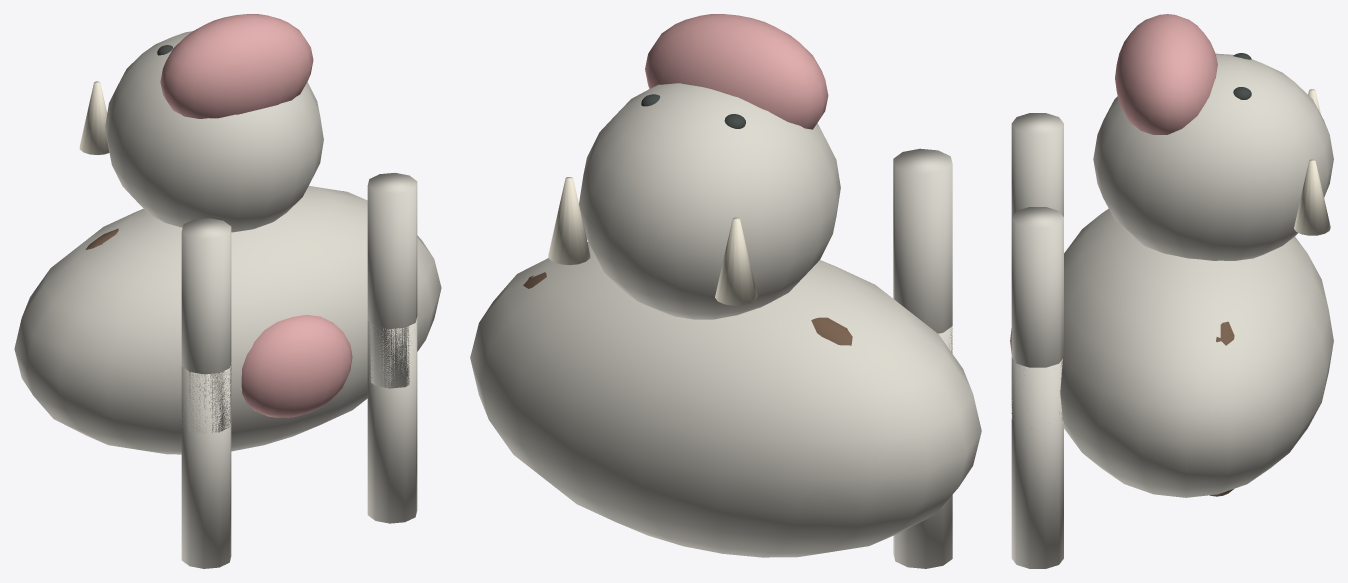
File: cow_character.glb
The picture shows the model from 3 angles, left to right: view 1: azimuth 30°, elevation 25°; view 2: azimuth 150°, elevation 25°; view 3: azimuth 270°, elevation 25°; orthographic projection. The views are drawn at different scales.
Visible parts, largest first — view 1: Body, Head, Muzzle, Leg.003, Leg, Leg.001, Udder, Leg.002, Horn; view 2: Body, Head, Muzzle, Leg.001, Leg, Horn, Horn.001, Spot; view 3: Body, Head, Leg.002, Muzzle, Leg.003, Leg.001, Horn.001.
Boxes of the visible parts, box(x1,y1,x2,y2) form: Body: box(14, 186, 441, 454); Head: box(105, 31, 323, 232); Muzzle: box(160, 14, 313, 118); Leg.003: box(367, 173, 417, 388); Leg: box(181, 363, 231, 568); Leg.001: box(181, 218, 231, 432); Udder: box(241, 314, 352, 417); Leg.002: box(367, 317, 417, 523); Horn: box(79, 81, 109, 154); Body: box(470, 242, 981, 557); Head: box(579, 83, 840, 319); Muzzle: box(645, 14, 828, 129); Leg.001: box(893, 148, 952, 352); Leg: box(893, 326, 952, 568); Horn: box(715, 217, 757, 305); Horn.001: box(548, 177, 590, 265); Spot: box(811, 317, 852, 345); Body: box(1060, 208, 1333, 497); Head: box(1093, 53, 1333, 260); Leg.002: box(1011, 357, 1063, 568); Muzzle: box(1115, 14, 1217, 134); Leg.003: box(1011, 207, 1063, 428); Leg.001: box(1011, 113, 1063, 216); Horn.001: box(1294, 159, 1330, 235).
Bounding box in the file's own units: 1.56 × 1.74 × 1.05.
